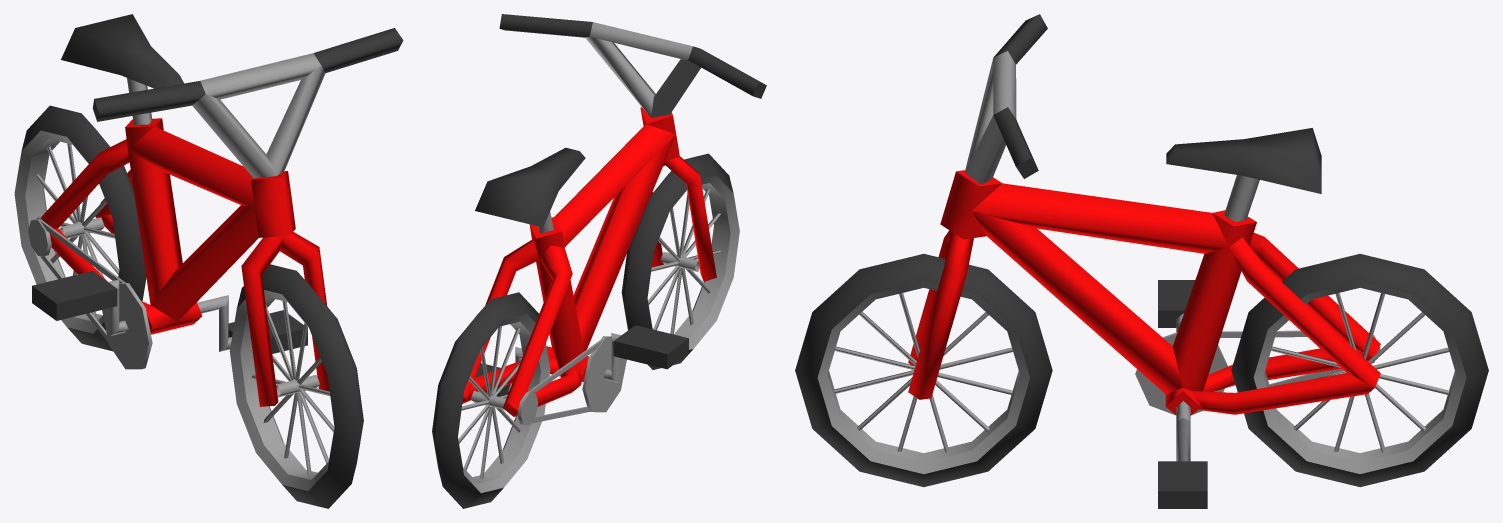
Rendered from bicycle.fbx.
3 renders of one model, left to right at view 1: azimuth 30°, elevation 25°; view 2: azimuth 150°, elevation 25°; view 3: azimuth 270°, elevation 25°, orthographic. The views are drawn at different scales.
Visible parts, largest first — view 1: Bicycle; view 2: Bicycle; view 3: Bicycle.
Part boxes in pixels (bbox=[...]): Bicycle: bbox=[14, 14, 403, 508]; Bicycle: bbox=[432, 14, 766, 508]; Bicycle: bbox=[795, 14, 1488, 508].
Bounding box in the file's own units: 65.32 × 83.99 × 129.
